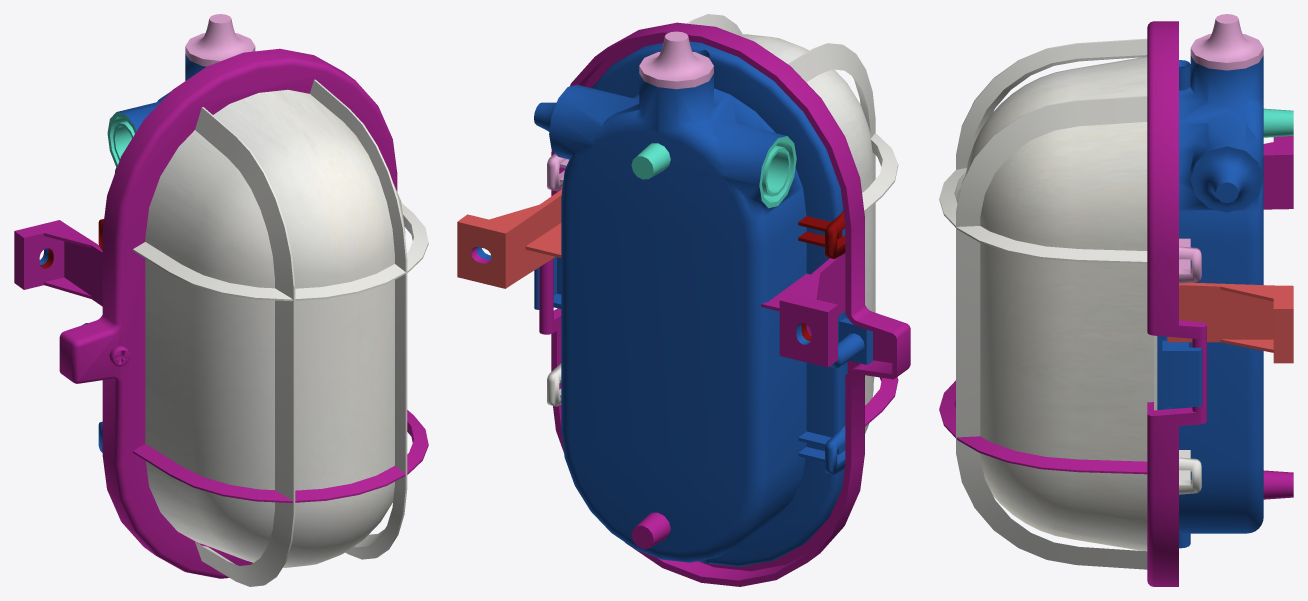
3 renders of one model, left to right at view 1: azimuth 30°, elevation 25°; view 2: azimuth 150°, elevation 25°; view 3: azimuth 270°, elevation 25°, orthographic. The views are drawn at different scales.
Parts seen in each view (by area): view 1: Group_001, Group_002, Composant_9_001, Composant_9_002, Composant_3_001, Composant_8_001, Composant_8_002, Sortie_005, Composant_7_003, Group_004; view 2: Group_004, Group_002, Composant_5_001, Composant_3_001, Group_001, Composant_9_001, Sortie_005, Composant_7_003, Composant_1_002, Composant_1_001, Composant_8_001, Sortie_006 (+4 smaller); view 3: Group_001, Group_004, Group_002, Composant_9_002, Composant_5_001, Composant_9_001, Sortie_006, Composant_8_001, Composant_8_002, Sortie_005, Composant_3_001, Composant_1_003 (+3 smaller).
Boxes of the visible parts, box(x1,y1,x2,y2) form: Group_001: box(145, 89, 405, 567); Group_002: box(59, 48, 397, 578); Composant_9_001: box(195, 107, 295, 586); Composant_9_002: box(310, 79, 407, 559); Composant_3_001: box(14, 220, 102, 306); Composant_8_001: box(133, 203, 428, 301); Composant_8_002: box(133, 410, 428, 502); Sortie_005: box(185, 14, 255, 66); Composant_7_003: box(107, 112, 136, 167); Group_004: box(82, 54, 206, 325); Group_004: box(534, 41, 872, 566); Group_002: box(539, 22, 910, 586); Composant_5_001: box(457, 189, 562, 288); Composant_3_001: box(761, 253, 845, 367); Group_001: box(738, 34, 873, 433); Composant_9_001: box(788, 43, 875, 382); Sortie_005: box(639, 31, 713, 89); Composant_7_003: box(759, 136, 796, 207); Composant_1_002: box(798, 426, 845, 474); Composant_1_001: box(798, 211, 845, 258); Composant_8_001: box(862, 133, 898, 212); Sortie_006: box(534, 84, 583, 158); Group_001: box(965, 56, 1157, 551); Group_004: box(1157, 55, 1263, 548); Group_002: box(1147, 21, 1206, 586); Composant_9_002: box(956, 95, 1147, 569); Composant_5_001: box(1167, 282, 1293, 363); Composant_9_001: box(956, 38, 1147, 203); Sortie_006: box(1190, 143, 1263, 212); Composant_8_001: box(939, 168, 1147, 263); Composant_8_002: box(939, 380, 1147, 474); Sortie_005: box(1190, 14, 1263, 70); Composant_3_001: box(1263, 135, 1293, 209); Composant_1_003: box(1179, 238, 1201, 283).
Bounding box in the file's own units: 130 × 183 × 107.
